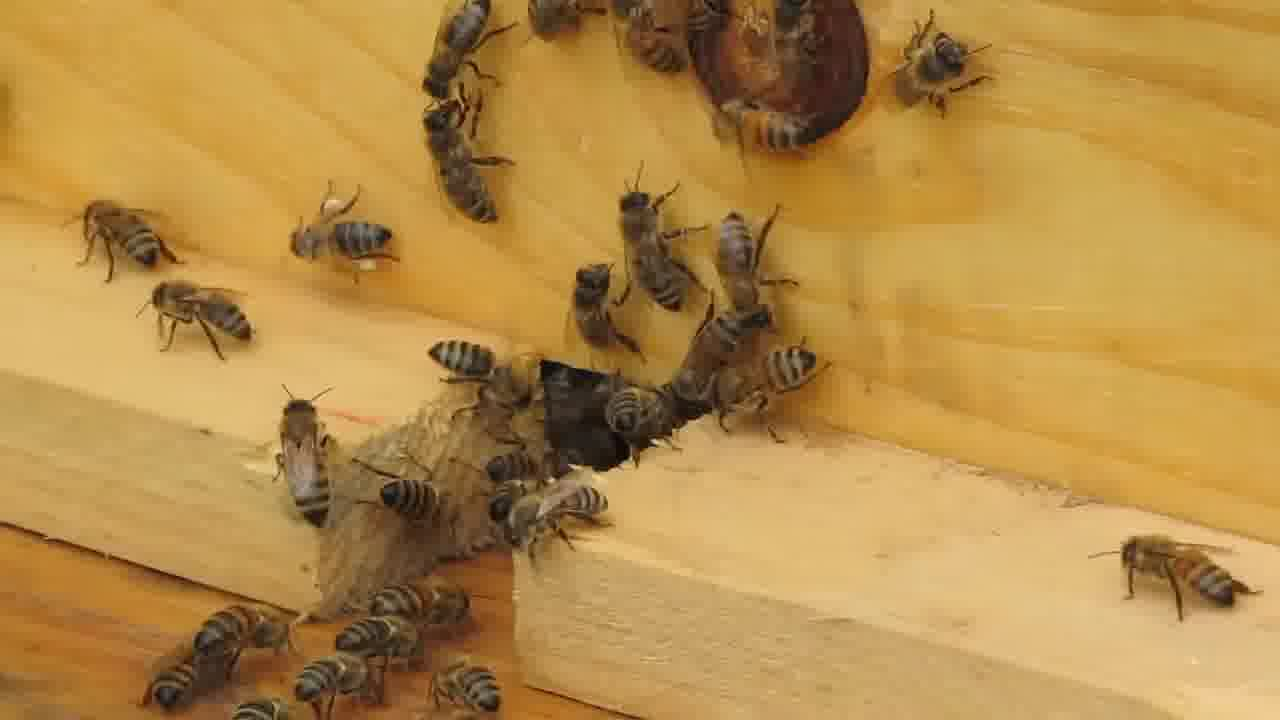pollen: (285, 188, 405, 279)
